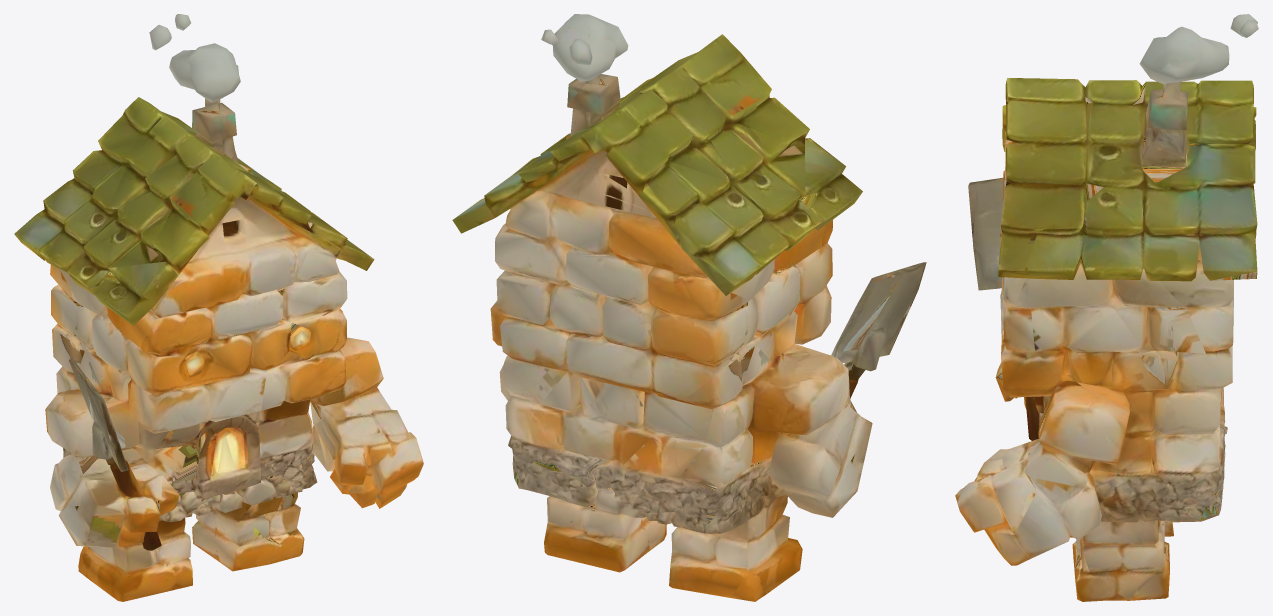
Rendered from glina.glb.
3 views of the same model, side by side, from view 1: azimuth 30°, elevation 25°; view 2: azimuth 150°, elevation 25°; view 3: azimuth 270°, elevation 25° (orthographic). The views are drawn at different scales.
Visible parts, largest first — view 1: model; view 2: model; view 3: model.
Boxes of the visible parts, left/top/right/bottom form: model: left=14, top=14, right=423, bottom=601; model: left=452, top=14, right=926, bottom=601; model: left=955, top=14, right=1258, bottom=601.
Size of the model in its own units: 1.29 by 1.9 by 0.9396.
1 material, 1 textured.
